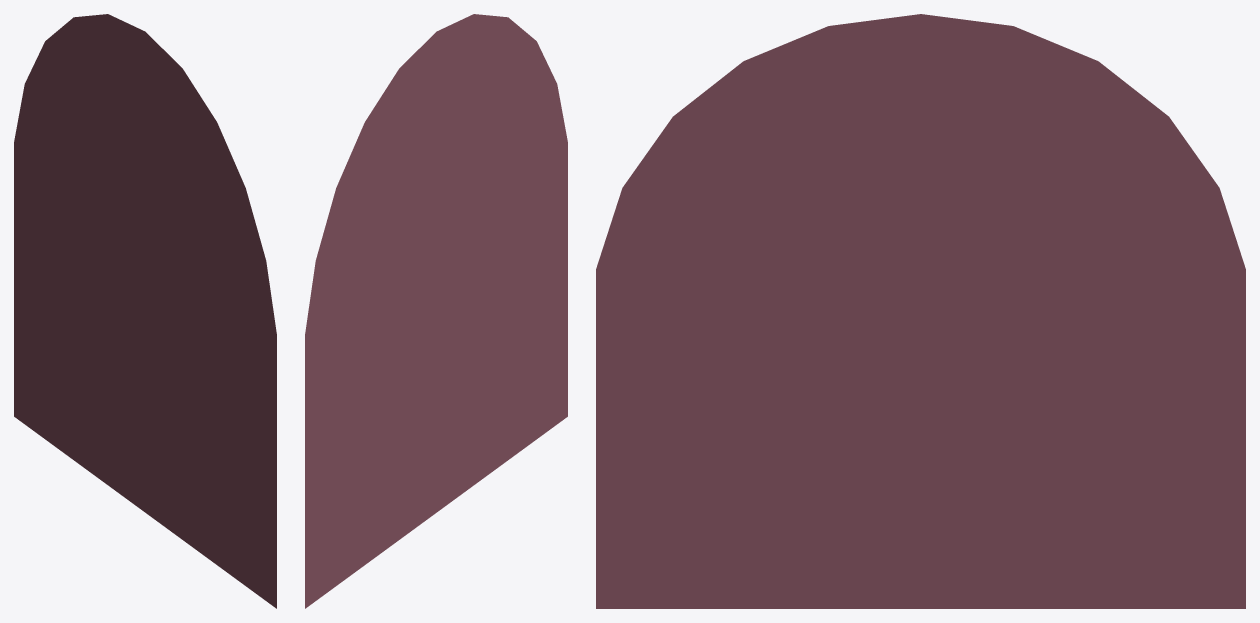
Rendered from mesh_TileParedTunel.fbx.
3 renders of one model, left to right at view 1: azimuth 30°, elevation 25°; view 2: azimuth 150°, elevation 25°; view 3: azimuth 270°, elevation 25°, orthographic. The views are drawn at different scales.
Visible parts, largest first — view 1: mesh_TileParedTunel; view 2: mesh_TileParedTunel; view 3: mesh_TileParedTunel.
Boxes of the visible parts, x1,y1,x2,y2 form: mesh_TileParedTunel: (14,14,276,608); mesh_TileParedTunel: (305,14,567,608); mesh_TileParedTunel: (596,14,1245,608).
Bounding box in the file's own units: 0 × 1582 × 1566.
